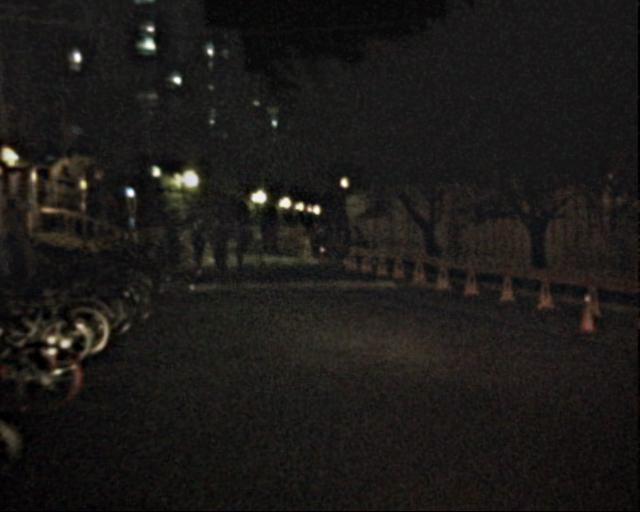person: (187, 211, 211, 269), (20, 223, 43, 280), (164, 215, 185, 265), (231, 219, 251, 267), (213, 222, 232, 269), (349, 223, 368, 269), (260, 218, 280, 248)
